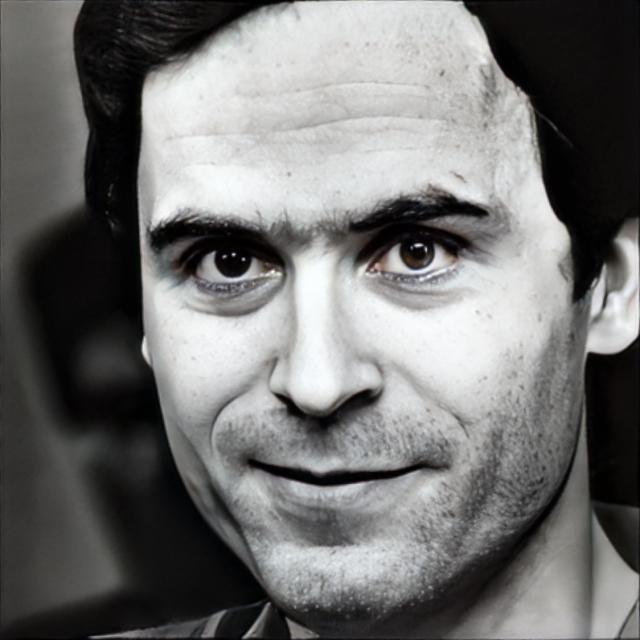content: (138, 0, 578, 623)
